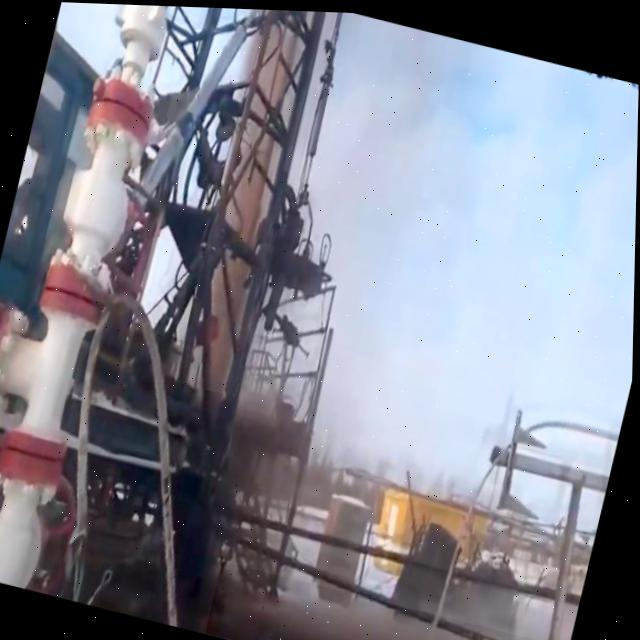spillage: (176, 8, 324, 394), (208, 559, 551, 640)
